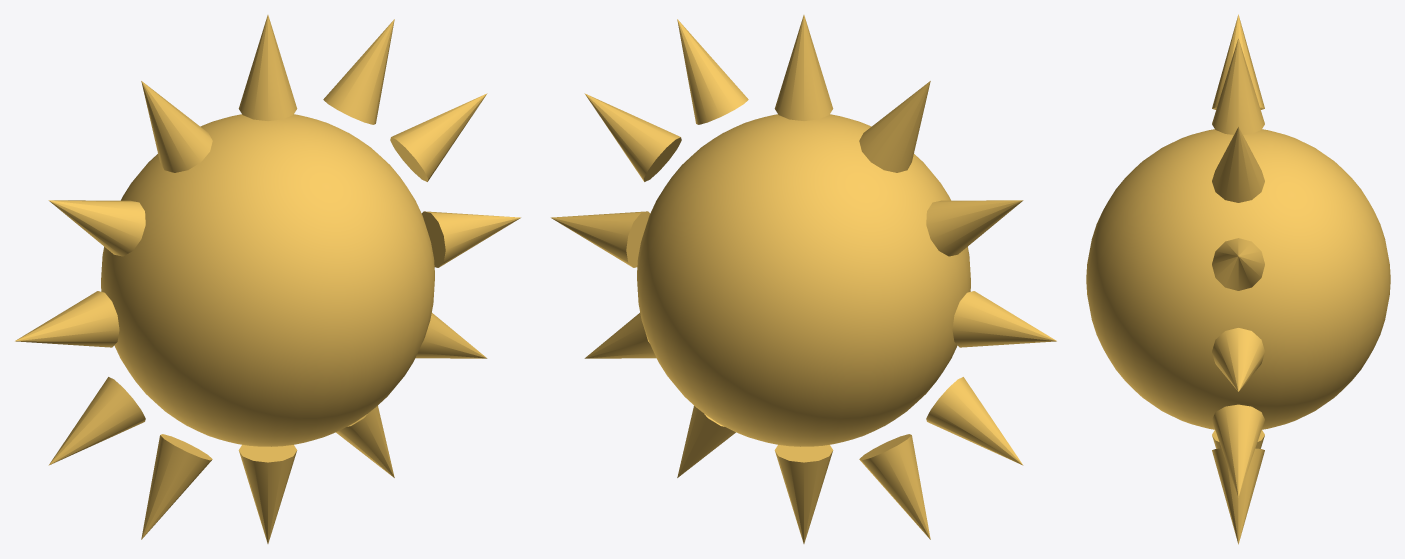
The model's file is araw.glb.
3 views of the same model, side by side, from view 1: azimuth 30°, elevation 25°; view 2: azimuth 150°, elevation 25°; view 3: azimuth 270°, elevation 25° (orthographic). The views are drawn at different scales.
Size of the model in its own units: 2.8 by 2.8 by 1.6.
